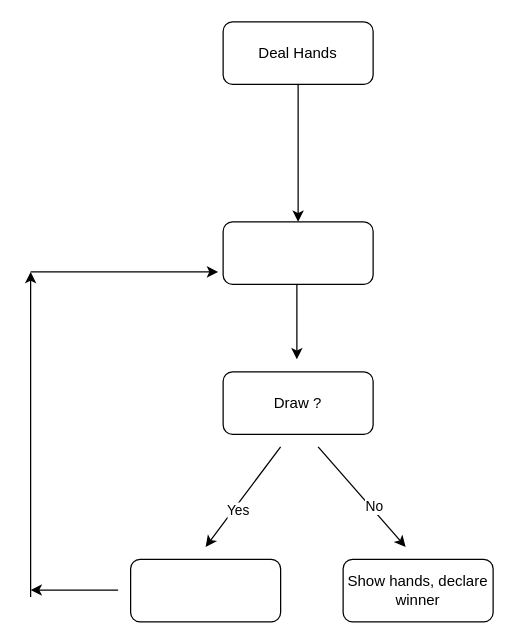
Some shapes in this 515 by 644 pixel diagram are drawn without their labels. The centre of each missing label's shape, as x and y in pixels:
"Count hand (show score)" belongs at [297,252].
"Deal and count hand" belongs at [205,590].
